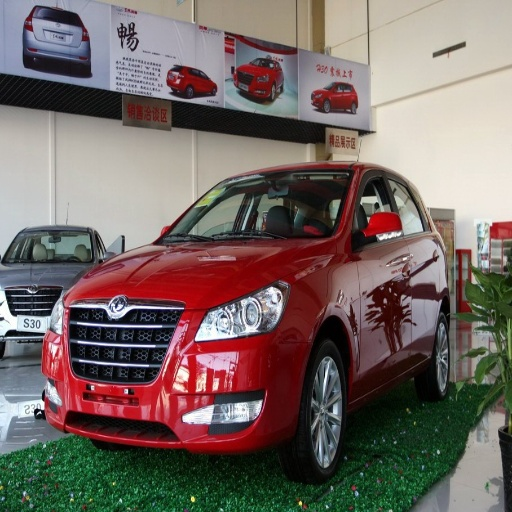front_bumper: (42, 293, 310, 453)
front_glass: (161, 170, 350, 241)
front_left_door: (350, 170, 412, 392)
trunk: (25, 9, 70, 51)
